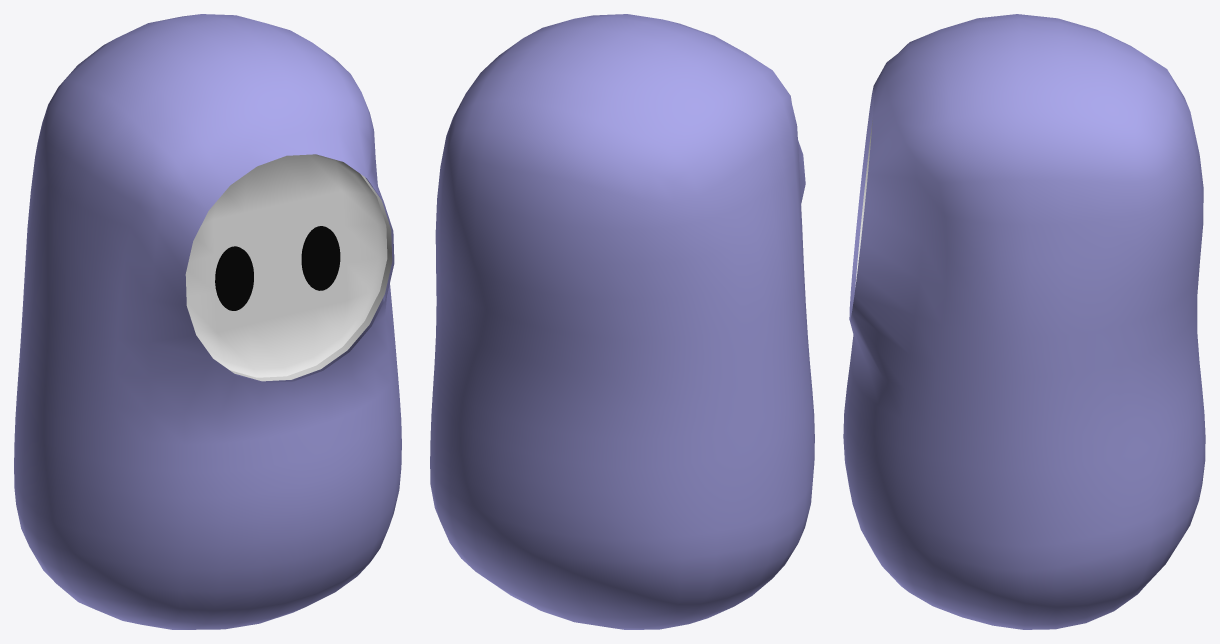
Rendered from beanguy.fbx.
3 views of the same model, side by side, from view 1: azimuth 30°, elevation 25°; view 2: azimuth 150°, elevation 25°; view 3: azimuth 270°, elevation 25° (orthographic).
Parts seen in each view (by area): view 1: Cube, eye1, eye2; view 2: Cube; view 3: Cube.
Boxes of the visible parts, left/top/right/bottom form: Cube: left=14, top=14, right=401, bottom=629; eye1: left=301, top=226, right=340, bottom=290; eye2: left=215, top=246, right=253, bottom=310; Cube: left=430, top=14, right=814, bottom=629; Cube: left=843, top=14, right=1205, bottom=629.
Bounding box in the file's own units: 212 × 340 × 195.
